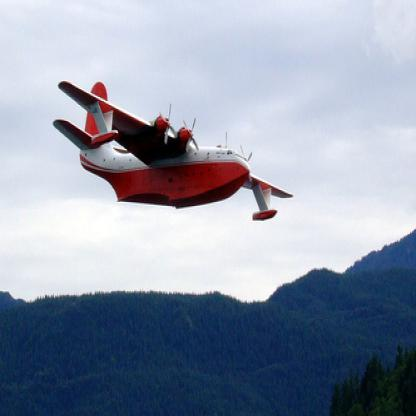aeroplane: (52, 78, 294, 222)
